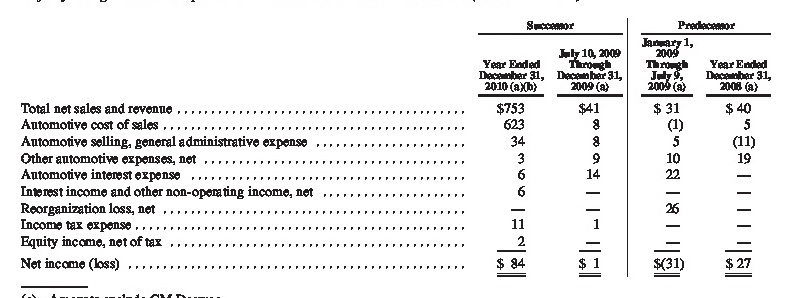table: (0, 0, 794, 298)
